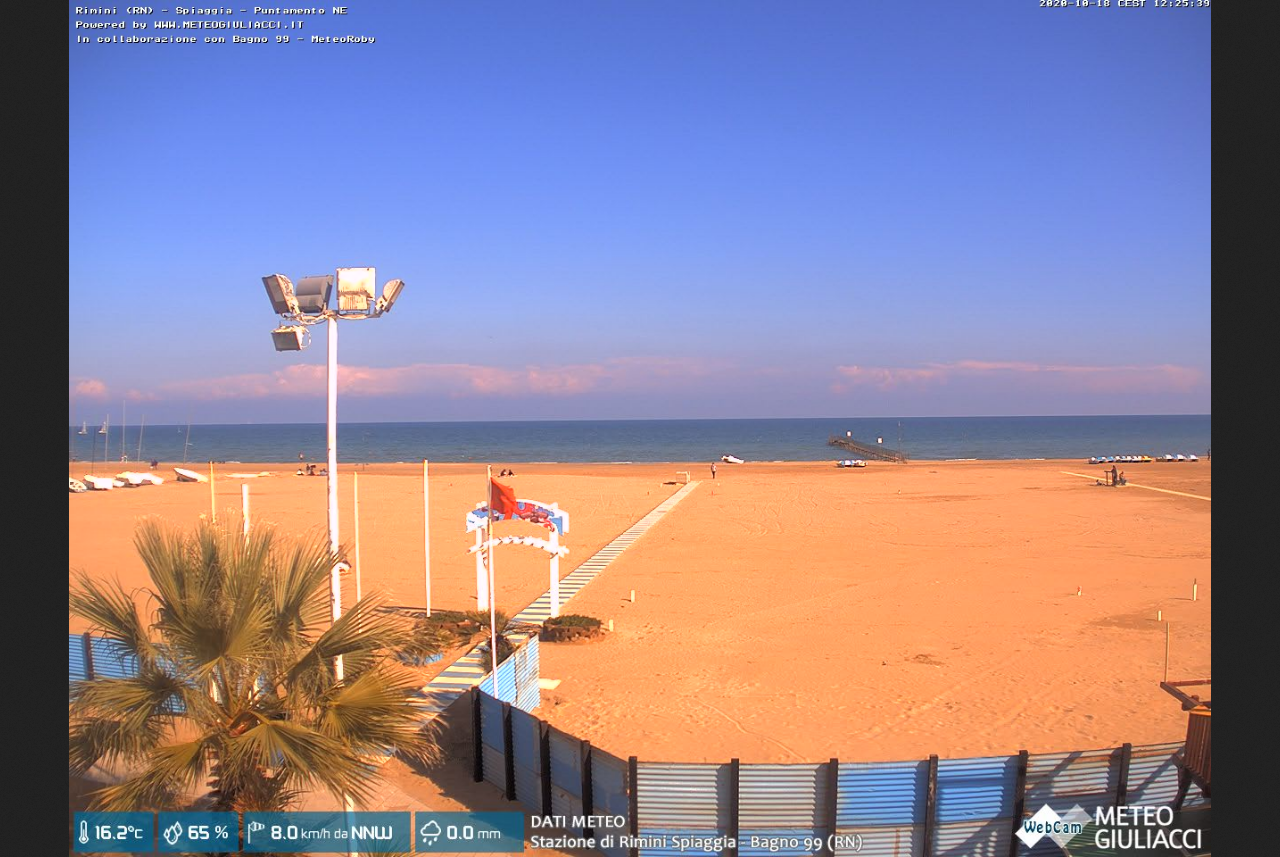yes: (482, 470, 526, 523)
